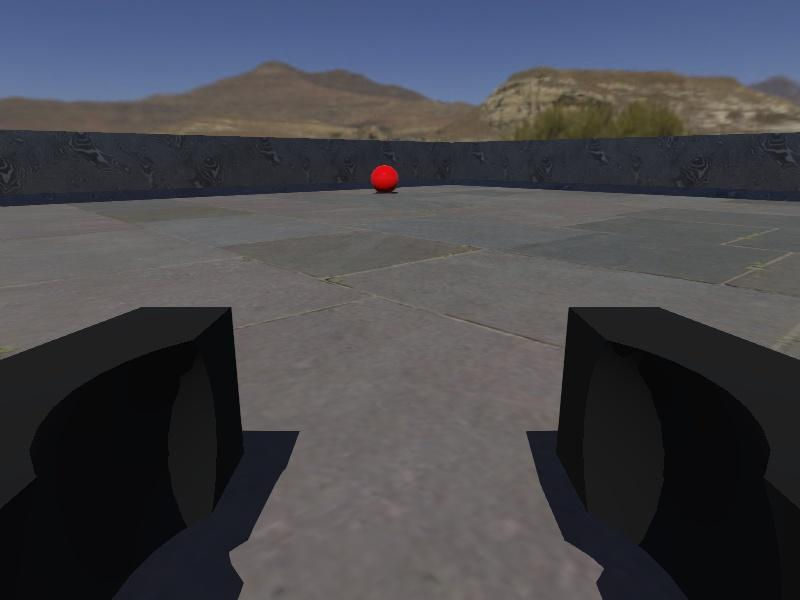red ball: (369, 163, 400, 193)
